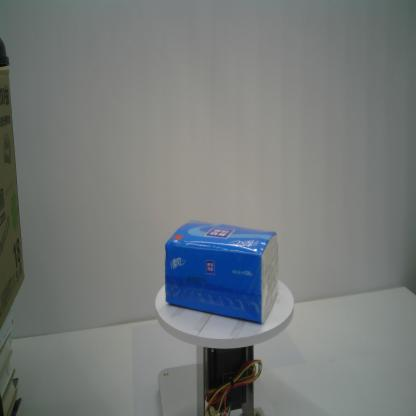Tissue: (163, 219, 279, 324)
